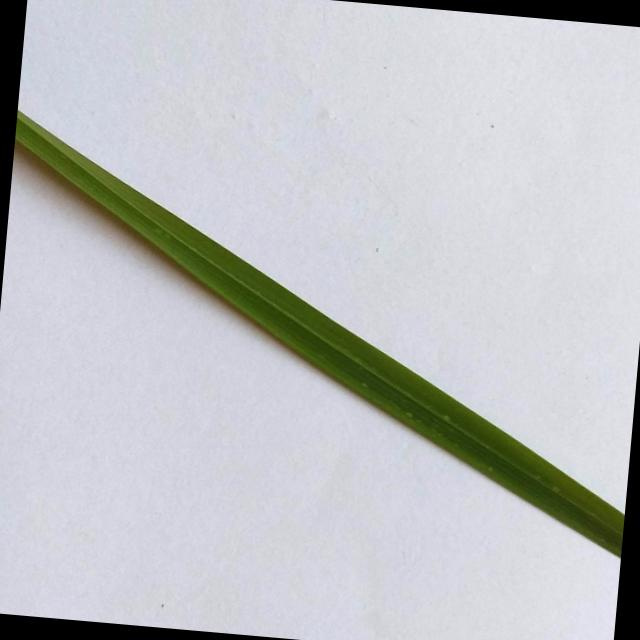Rice_Healthy: (15, 111, 624, 556)
